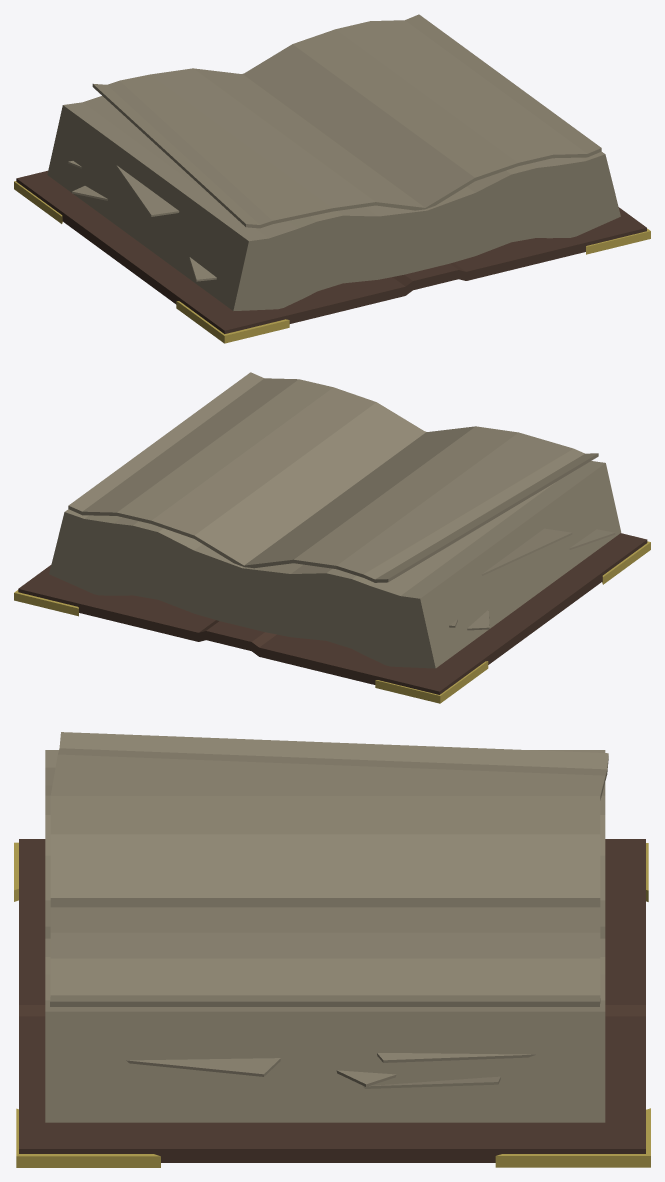
File: quaternius-rpg-items-book-3-open.glb
The picture shows the model from 3 angles, top to bottom: view 1: azimuth 30°, elevation 25°; view 2: azimuth 150°, elevation 25°; view 3: azimuth 270°, elevation 25°; orthographic projection. The views are drawn at different scales.
Parts seen in each view (by area): view 1: Book3_Open; view 2: Book3_Open; view 3: Book3_Open.
Boxes of the visible parts, <box> form: Book3_Open: <box>14,14,650,343</box>; Book3_Open: <box>14,372,650,703</box>; Book3_Open: <box>14,732,650,1167</box>.
Size of the model in its own units: 0.8766 by 0.1945 by 0.7521.
